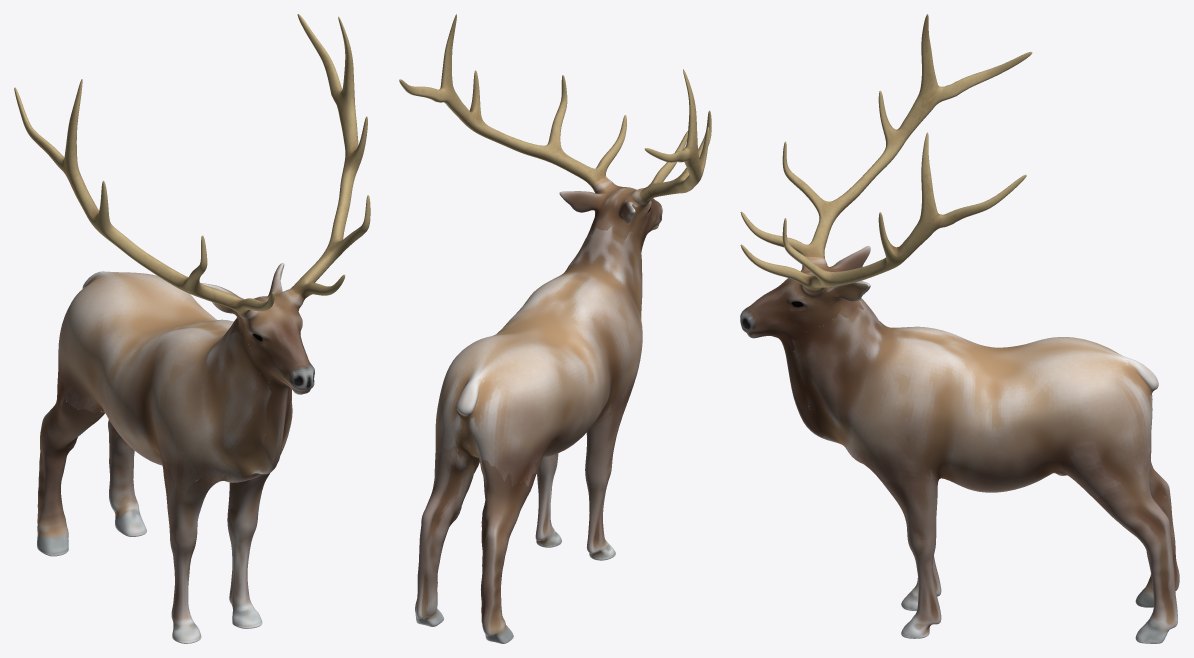
File: MZ4250 - Giant Elk.glb
3 renders of one model, left to right at view 1: azimuth 30°, elevation 25°; view 2: azimuth 150°, elevation 25°; view 3: azimuth 270°, elevation 25°, orthographic. The views are drawn at different scales.
Parts seen in each view (by area): view 1: Elk v2 v4 Original.002; view 2: Elk v2 v4 Original.002; view 3: Elk v2 v4 Original.002.
Part boxes in pixels (x1,y1,x2,y2): Elk v2 v4 Original.002: (14, 14, 370, 643); Elk v2 v4 Original.002: (399, 14, 711, 643); Elk v2 v4 Original.002: (740, 14, 1179, 643).
Bounding box in the file's own units: 54.55 × 101 × 73.61.
3 materials, 3 textured.
